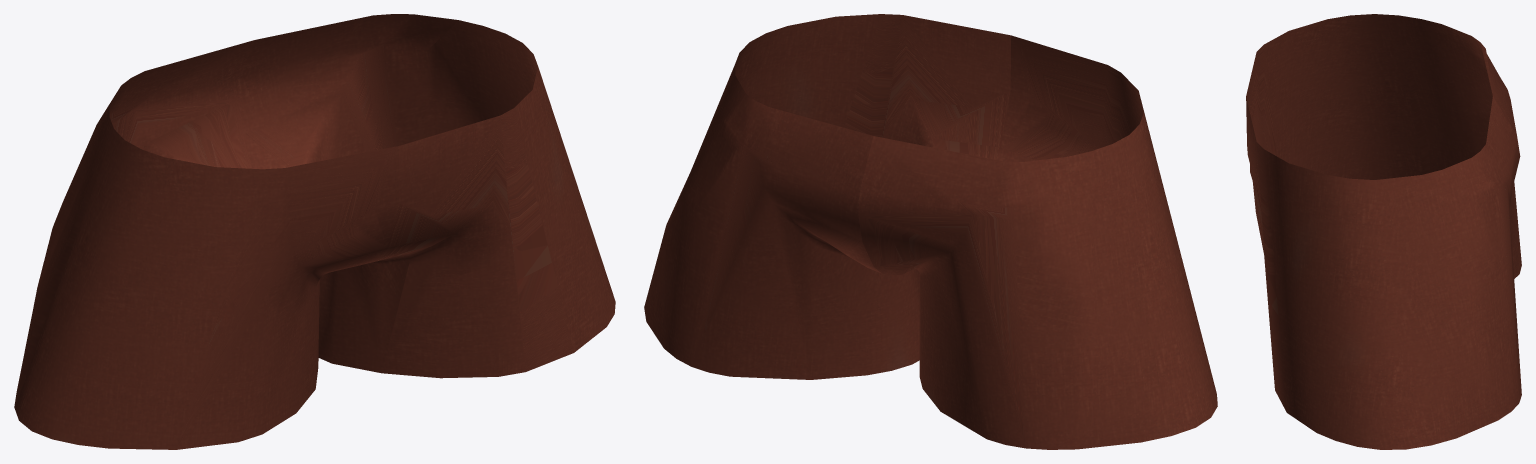
Rendered from Costume04_weight_Pant.fbx.
The picture shows the model from 3 angles, left to right: view 1: azimuth 30°, elevation 25°; view 2: azimuth 150°, elevation 25°; view 3: azimuth 270°, elevation 25°; orthographic projection. The views are drawn at different scales.
Visible parts, largest first — view 1: body_boy.005; view 2: body_boy.005; view 3: body_boy.005.
Part boxes in pixels (<box>): body_boy.005: <box>14,14,615,449</box>; body_boy.005: <box>644,14,1217,449</box>; body_boy.005: <box>1246,14,1521,449</box>.
Size of the model in its own units: 489 by 222 by 237.
